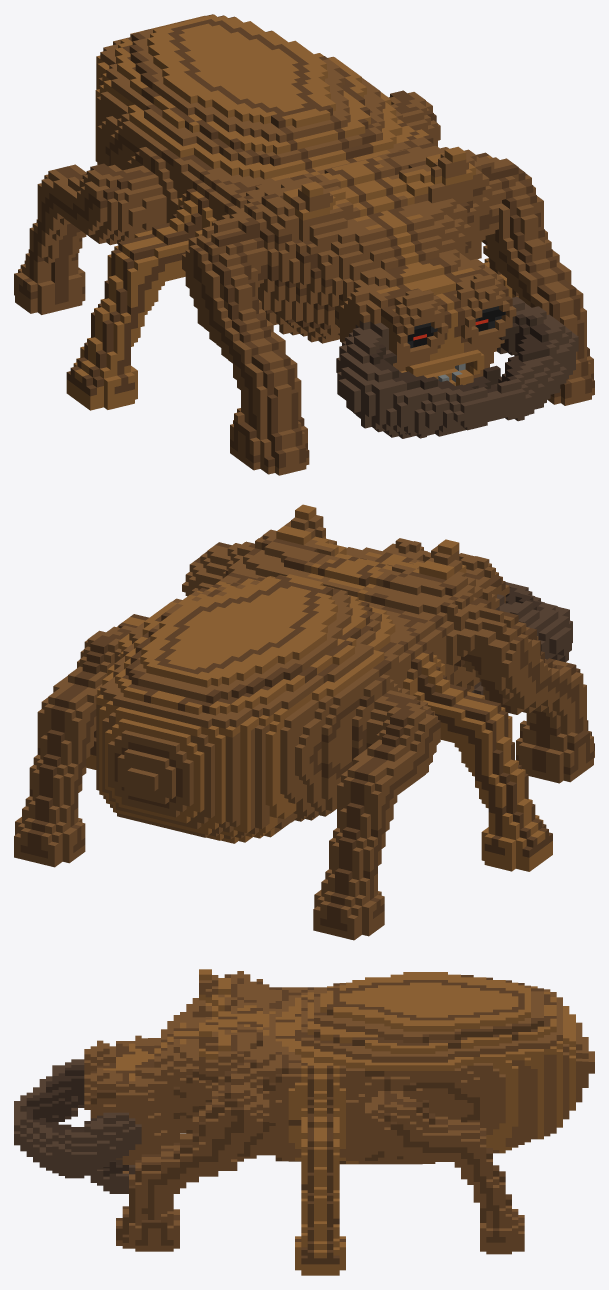
The model's file is beetle_attack_v1.0-3.obj.
The picture shows the model from 3 angles, top to bottom: view 1: azimuth 30°, elevation 25°; view 2: azimuth 150°, elevation 25°; view 3: azimuth 270°, elevation 25°; orthographic projection. The views are drawn at different scales.
Parts seen in each view (by area): view 1: beetle_attack_v1; view 2: beetle_attack_v1; view 3: beetle_attack_v1.
Part boxes in pixels (left/top/right/bottom): beetle_attack_v1: left=14, top=14, right=594, bottom=475; beetle_attack_v1: left=14, top=504, right=594, bottom=940; beetle_attack_v1: left=14, top=969, right=594, bottom=1275.
Size of the model in its own units: 6.8 by 3.2 by 9.1.
1 material, 1 textured.
